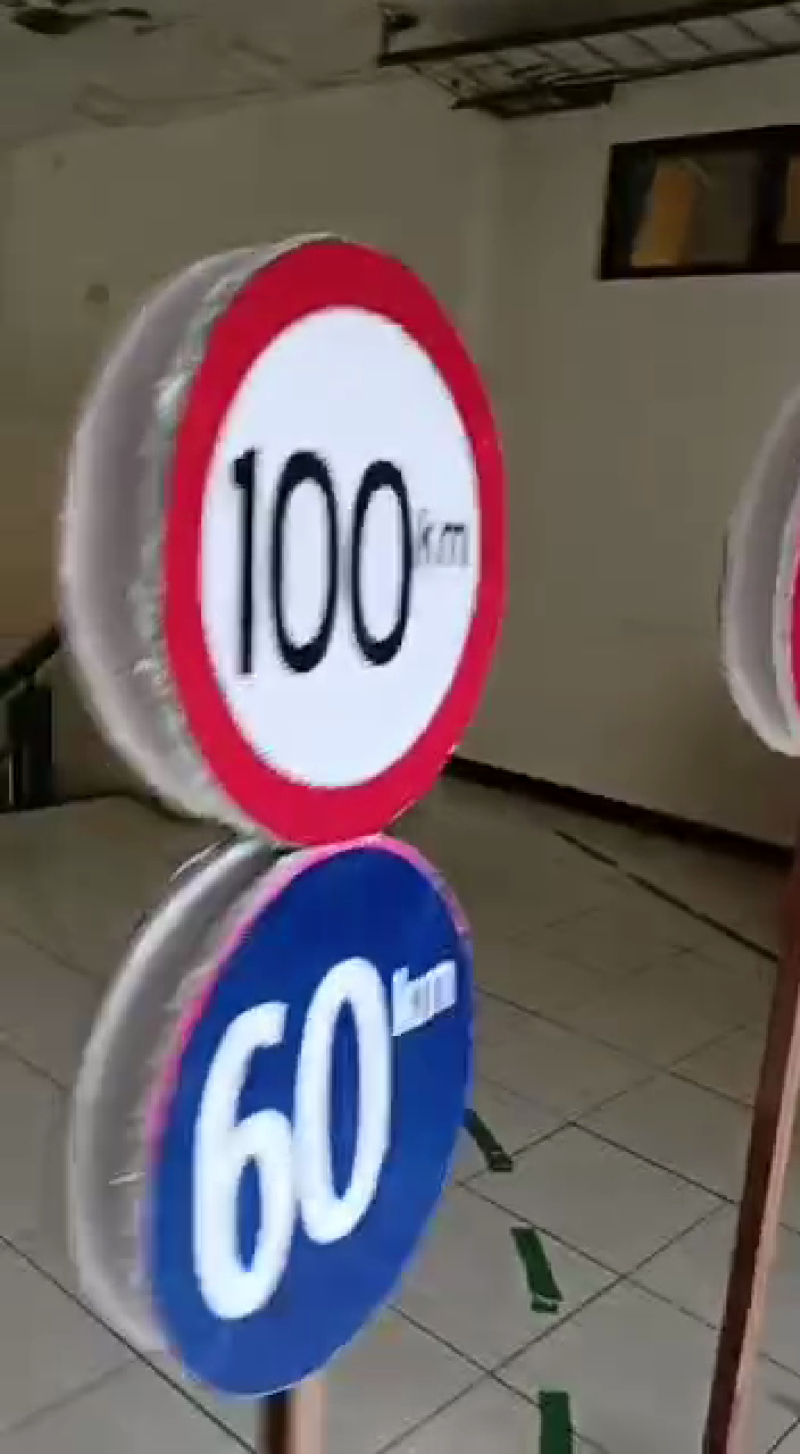batas maksimal 100kmperjam minimal 60kmperjam: (103, 227, 505, 1401)
